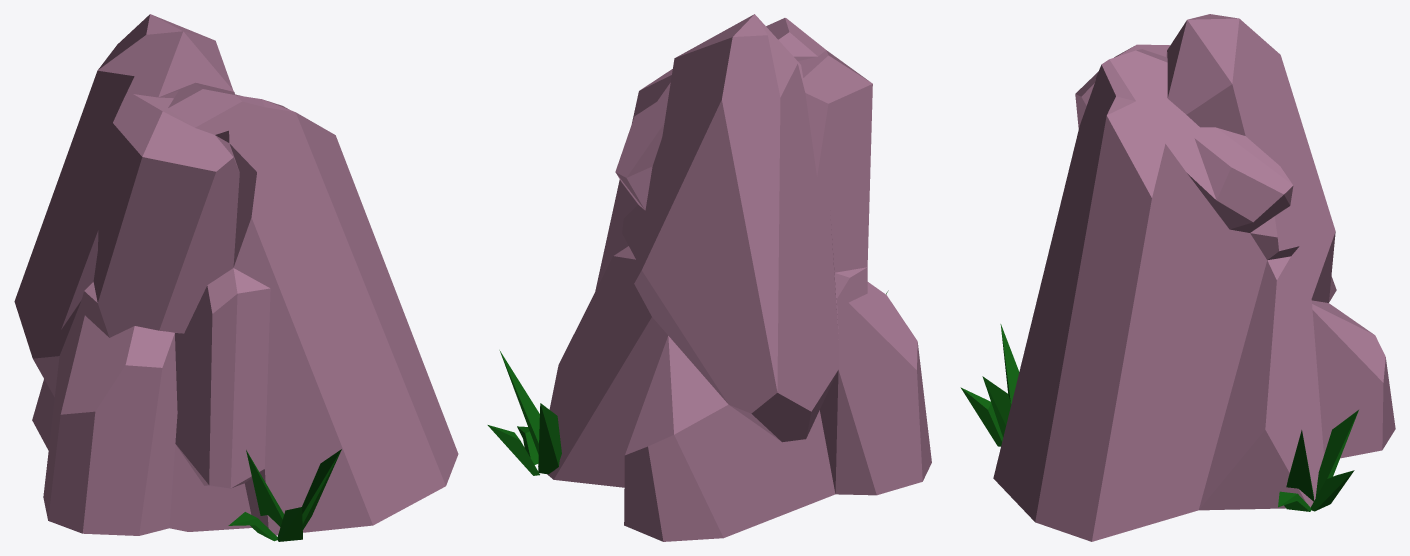
Rendered from rock2.fbx.
3 views of the same model, side by side, from view 1: azimuth 30°, elevation 25°; view 2: azimuth 150°, elevation 25°; view 3: azimuth 270°, elevation 25° (orthographic). The views are drawn at different scales.
Visible parts, largest first — view 1: rock.003; view 2: rock.003; view 3: rock.003.
Boxes of the visible parts, x1,y1,x2,y2 form: rock.003: (14,14,458,541); rock.003: (487,14,931,541); rock.003: (960,14,1395,541).
Bounding box in the file's own units: 197 × 221 × 208.
